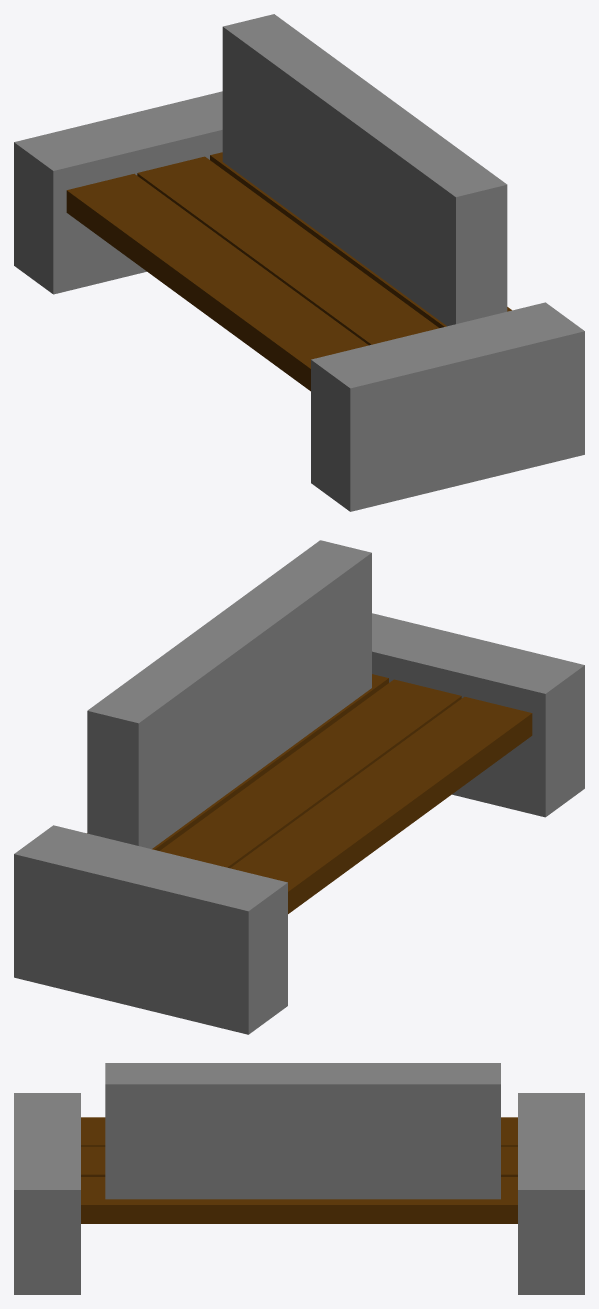
The model's file is Bench5.fbx.
3 views of the same model, one above another, from view 1: azimuth 30°, elevation 25°; view 2: azimuth 150°, elevation 25°; view 3: azimuth 270°, elevation 25° (orthographic). The views are drawn at different scales.
Visible parts, largest first — view 1: Bench4; view 2: Bench4; view 3: Bench4.
Boxes of the visible parts, box(x1,y1,x2,y2) form: Bench4: box(14, 14, 584, 511); Bench4: box(14, 540, 584, 1034); Bench4: box(14, 1063, 584, 1294).
Bounding box in the file's own units: 72.33 × 69.66 × 180.
